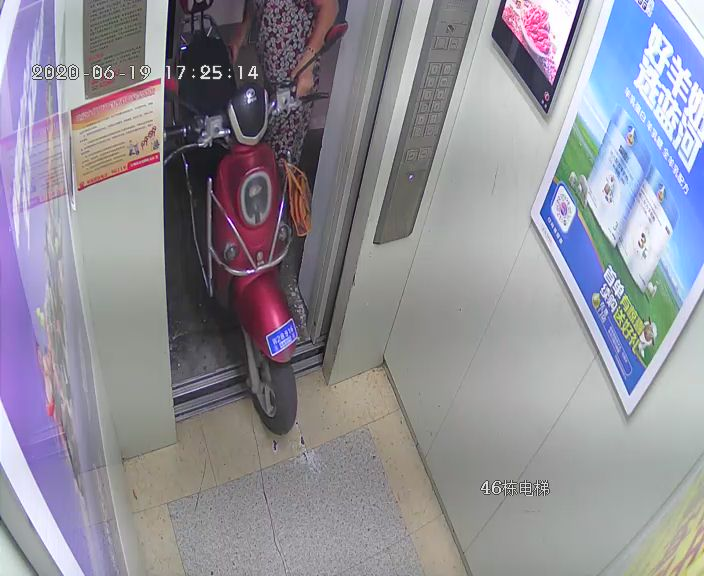Electric-bicycle: (168, 7, 345, 430)
